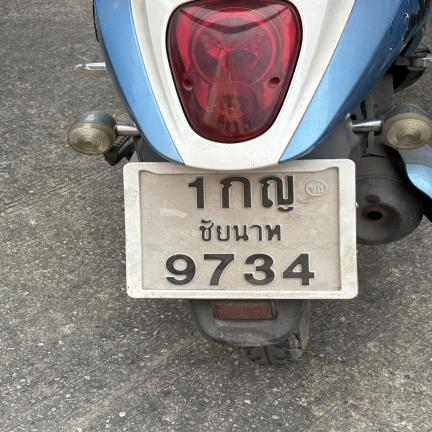1: (178, 173, 208, 210)
3: (240, 251, 277, 286)
4: (281, 251, 319, 286)
7: (200, 251, 237, 287)
9: (160, 251, 197, 286)
A01: (218, 174, 254, 210)
A13: (255, 173, 300, 213)
CNT: (194, 215, 284, 243)
